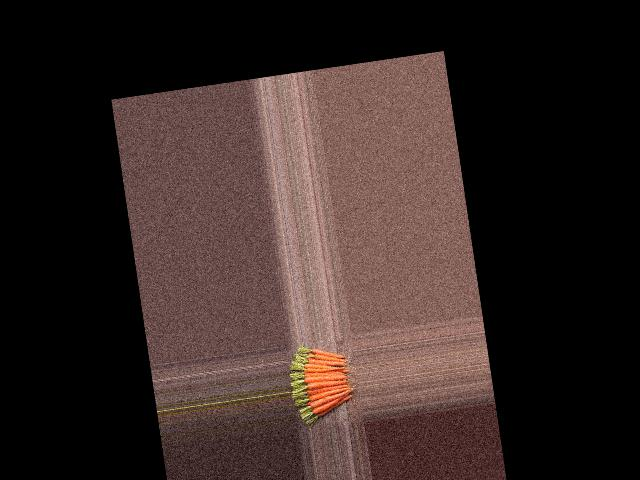carrot: (310, 344, 344, 355)
